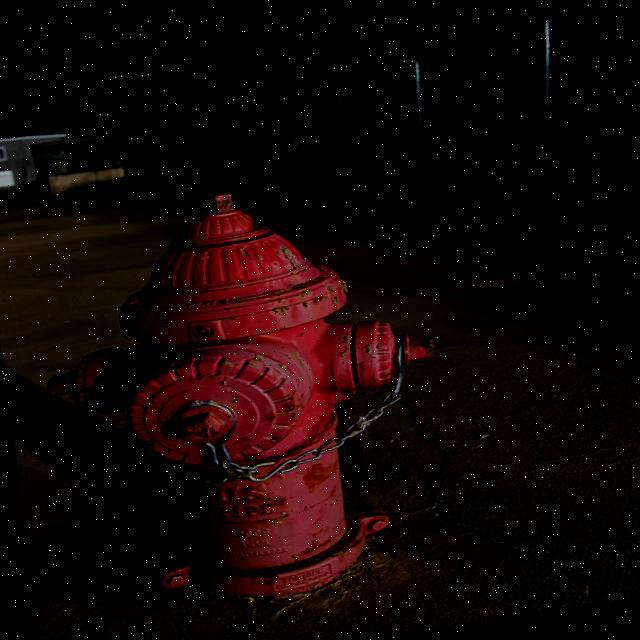fire_hydrant: (21, 165, 469, 622)
